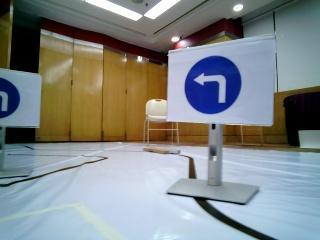left: (174, 51, 264, 121)
